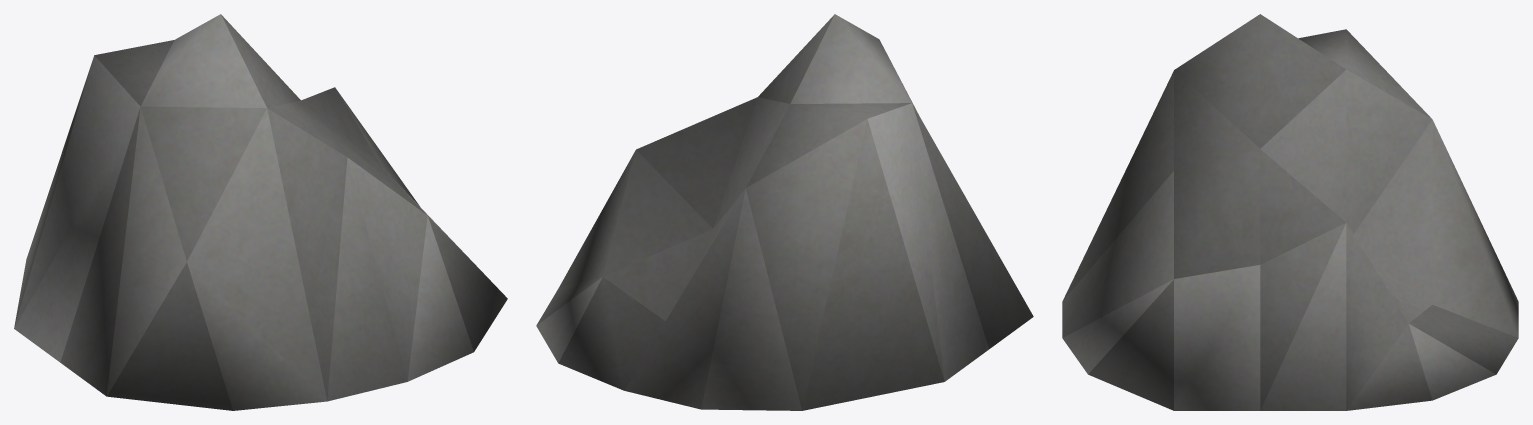
File: Rock-01.fbx
3 renders of one model, left to right at view 1: azimuth 30°, elevation 25°; view 2: azimuth 150°, elevation 25°; view 3: azimuth 270°, elevation 25°, orthographic. The views are drawn at different scales.
Parts seen in each view (by area): view 1: Rock-01; view 2: Rock-01; view 3: Rock-01.
Boxes of the visible parts, <box> form: Rock-01: <box>14,14,507,410</box>; Rock-01: <box>536,14,1033,410</box>; Rock-01: <box>1062,14,1518,410</box>.
Size of the model in its own units: 2.33 by 1.71 by 2.46.
